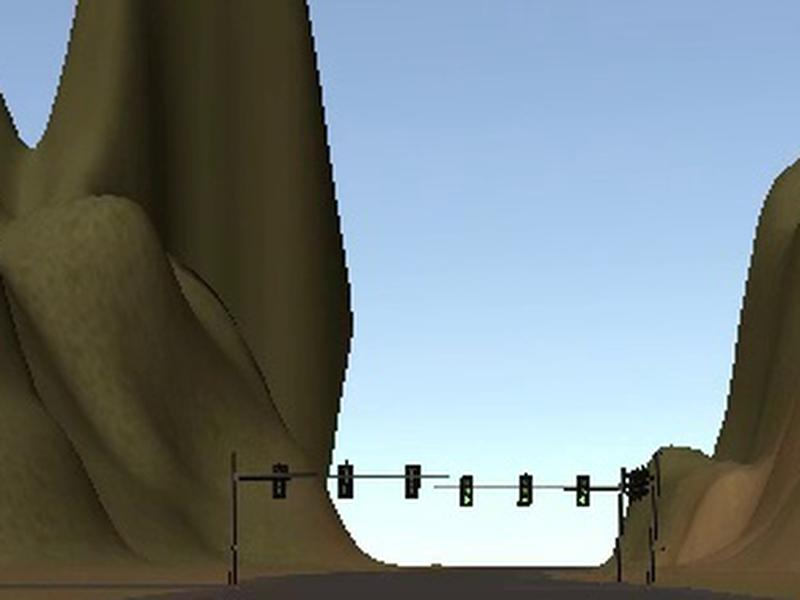Green: (515, 473, 534, 508), (576, 473, 592, 507), (457, 475, 474, 506)
